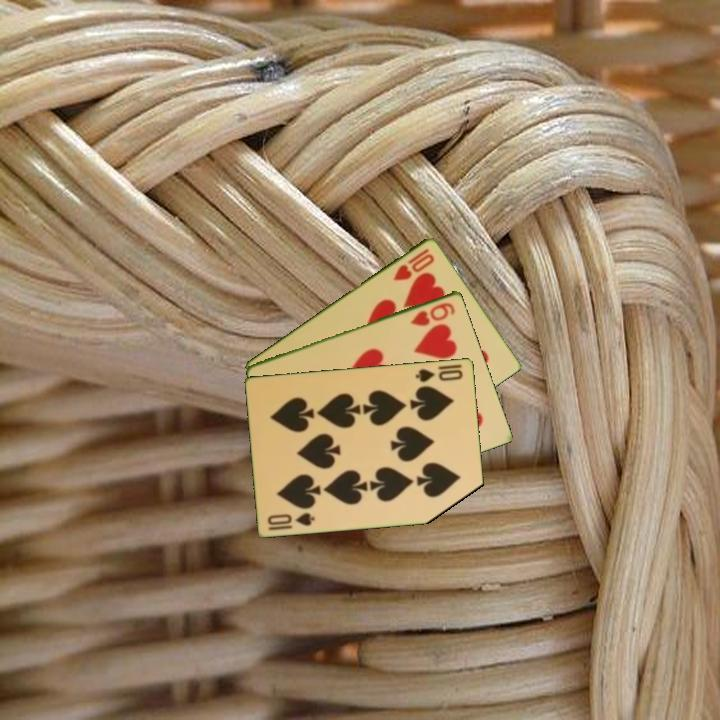10h: (389, 244, 437, 283)
10s: (264, 509, 318, 533), (412, 365, 466, 385)
6h: (407, 298, 458, 329)
